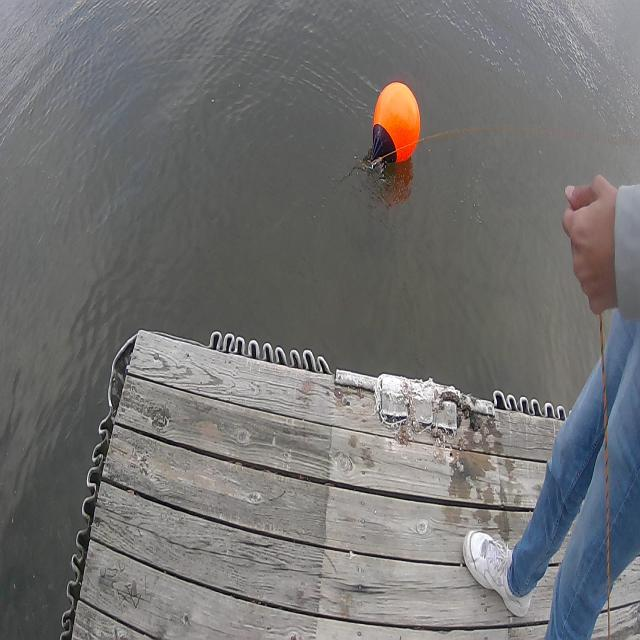Buoy: (367, 77, 425, 194)
